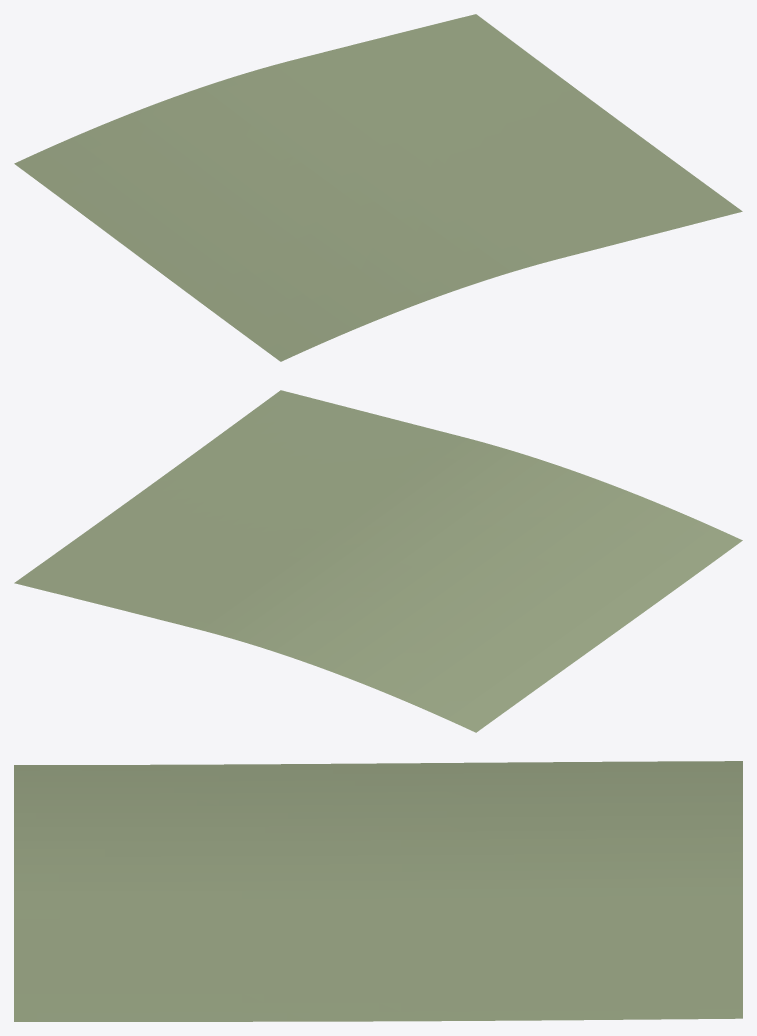
File: desert-24-2.glb
3 views of the same model, one above another, from view 1: azimuth 30°, elevation 25°; view 2: azimuth 150°, elevation 25°; view 3: azimuth 270°, elevation 25° (orthographic). The views are drawn at different scales.
Parts seen in each view (by area): view 1: desert-24-2; view 2: desert-24-2; view 3: desert-24-2.
Boxes of the visible parts, x1,y1,x2,y2 form: desert-24-2: (14, 14, 742, 361); desert-24-2: (14, 390, 742, 732); desert-24-2: (14, 761, 742, 1021).
Bounding box in the file's own units: 512 × 42.19 × 512.
